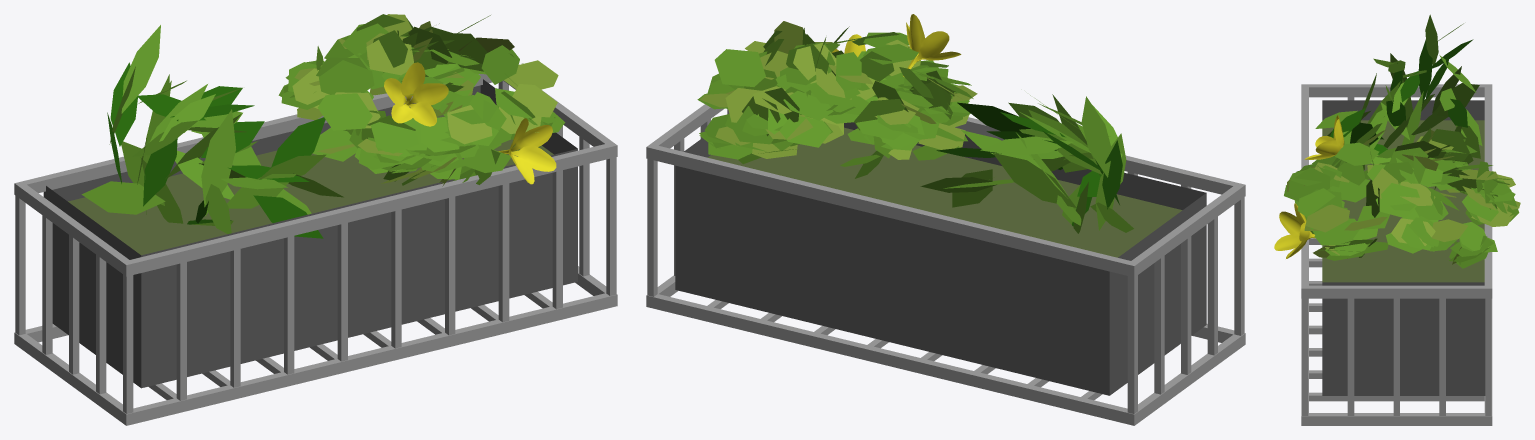
File: WindowBox_Metal_Variety2.fbx
3 views of the same model, side by side, from view 1: azimuth 30°, elevation 25°; view 2: azimuth 150°, elevation 25°; view 3: azimuth 270°, elevation 25° (orthographic). The views are drawn at different scales.
Parts seen in each view (by area): view 1: Circle.001; view 2: Circle.001; view 3: Circle.001.
Boxes of the visible parts, box(x1,y1,x2,y2) form: Circle.001: box(14, 14, 617, 425); Circle.001: box(646, 14, 1245, 425); Circle.001: box(1274, 14, 1520, 425).
Size of the model in its own units: 1.57 by 0.9103 by 0.799.
